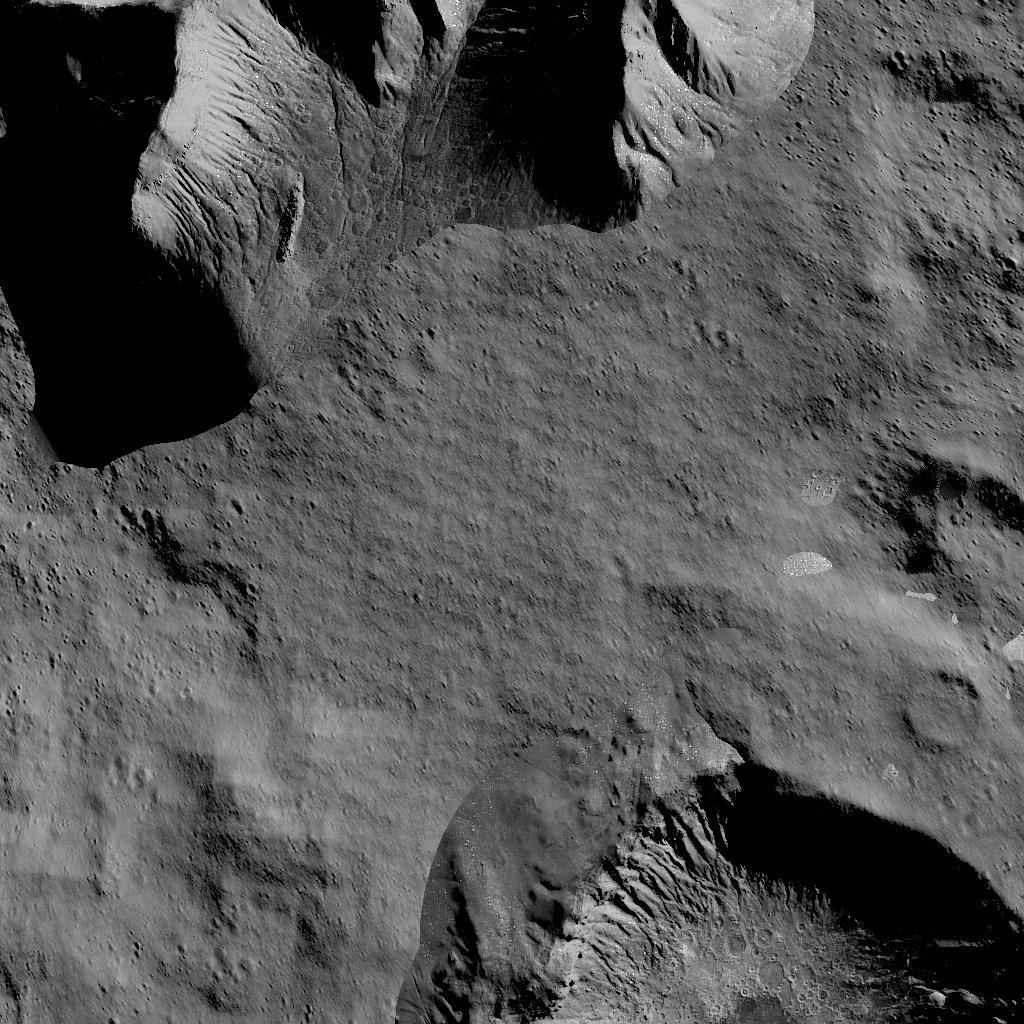Boulders: (10, 0, 820, 453)
Crater: (437, 724, 1024, 1024), (877, 438, 1024, 634)
Plan surface: (17, 508, 401, 1024), (444, 476, 852, 698), (859, 6, 1024, 398)
